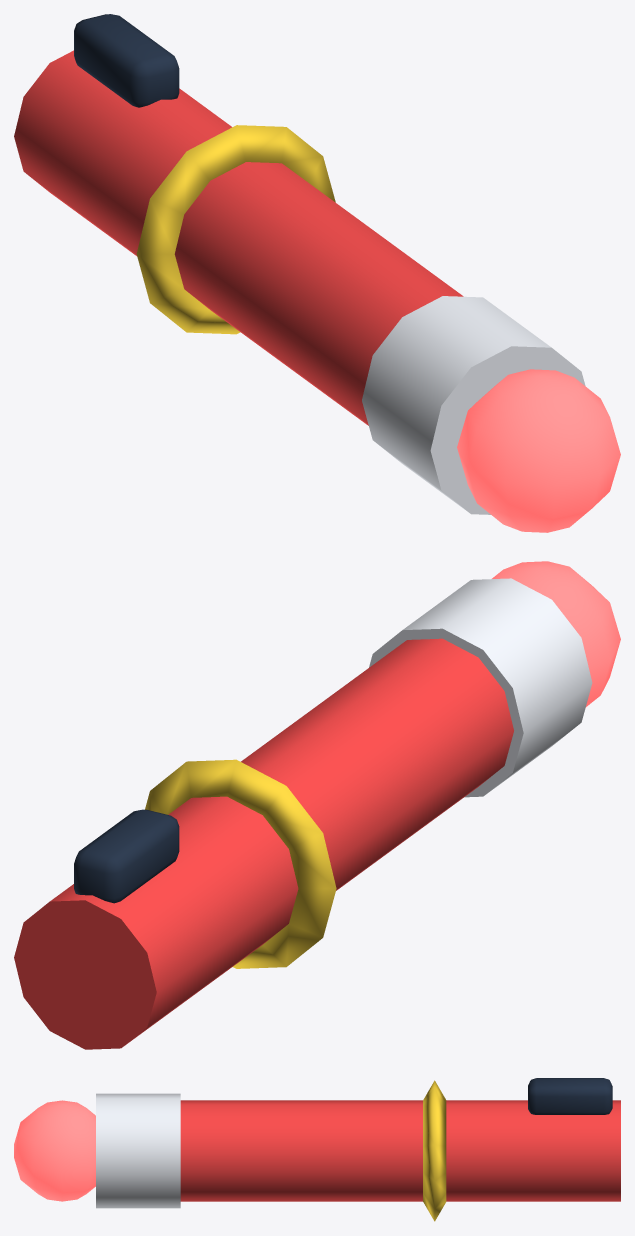
File: HeliGunner.fbx
3 renders of one model, top to bottom at view 1: azimuth 30°, elevation 25°; view 2: azimuth 150°, elevation 25°; view 3: azimuth 270°, elevation 25°, orthographic. The views are drawn at different scales.
Visible parts, largest first — view 1: HeliGunner; view 2: HeliGunner; view 3: HeliGunner.
Boxes of the visible parts, bbox=[...] form: HeliGunner: bbox=[14, 14, 620, 532]; HeliGunner: bbox=[14, 561, 620, 1049]; HeliGunner: bbox=[14, 1078, 620, 1221].
Bounding box in the file's own units: 0.084 × 0.087 × 0.3585.
